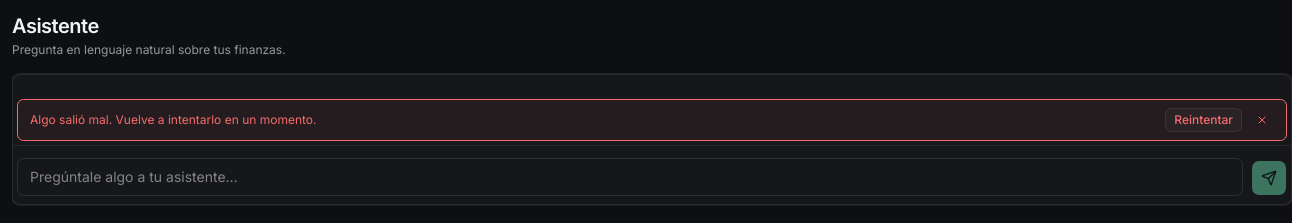
Test: ChatSection › close × button dismisses the banner
Expected: the message "Algo salió mal. Vuelve a intentarlo en un momento. Reintentar" is shown, [17,99,1287,141]
Click the button named "Cerrar mensaje de error" at coordinates (1262, 120), box [1250,108,1274,132]
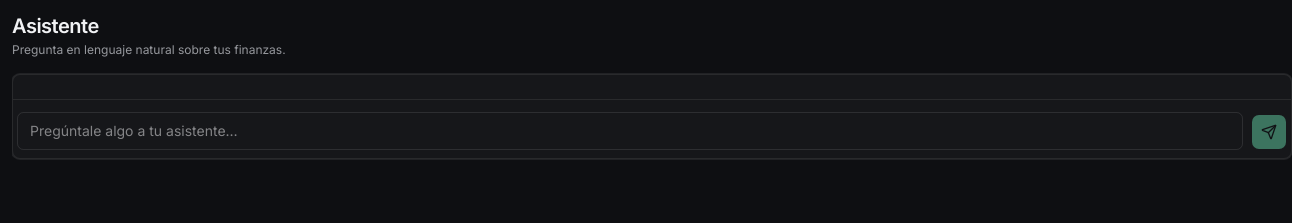
Expected: the message "Algo salió mal. Vuelve a intentarlo en un momento. Reintentar" is gone
